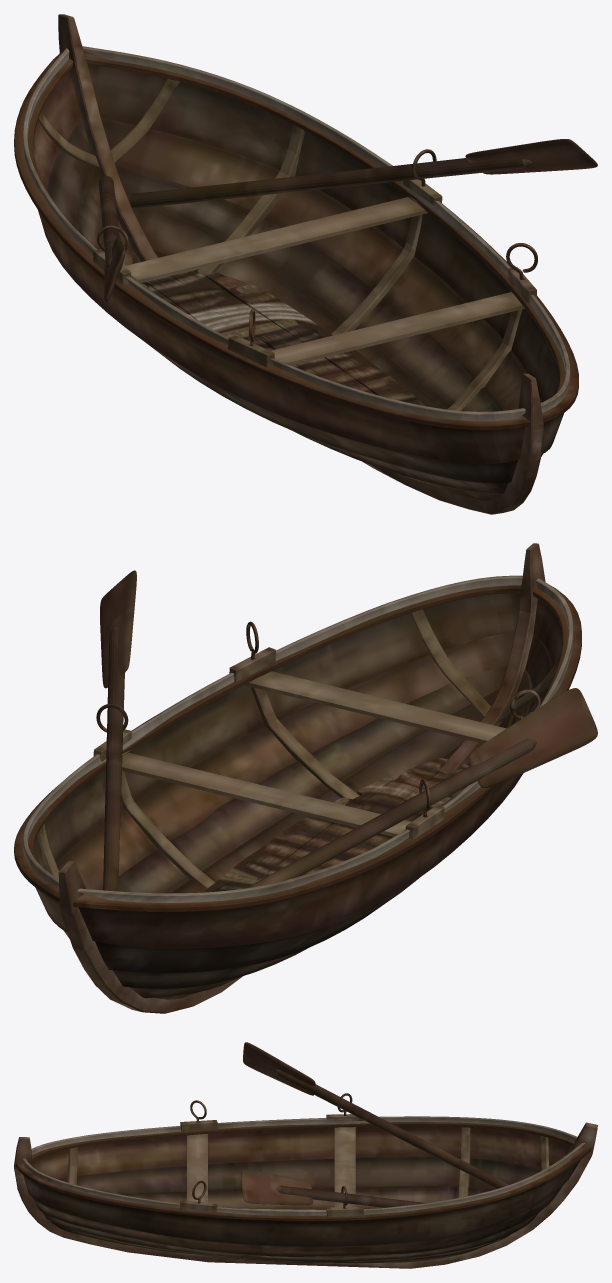
Rendered from Boat1.glb.
The picture shows the model from 3 angles, top to bottom: view 1: azimuth 30°, elevation 25°; view 2: azimuth 150°, elevation 25°; view 3: azimuth 270°, elevation 25°; orthographic projection. The views are drawn at different scales.
Visible parts, largest first — view 1: 003-0-3; view 2: 003-0-3; view 3: 003-0-3.
Part boxes in pixels (left/top/right/bottom): 003-0-3: left=14, top=14, right=597, bottom=514; 003-0-3: left=14, top=543, right=597, bottom=1013; 003-0-3: left=14, top=1042, right=597, bottom=1268.
Size of the model in its own units: 0.000125 by 6.43e-05 by 0.00021.
Materials: 1 (1 with a texture image).
